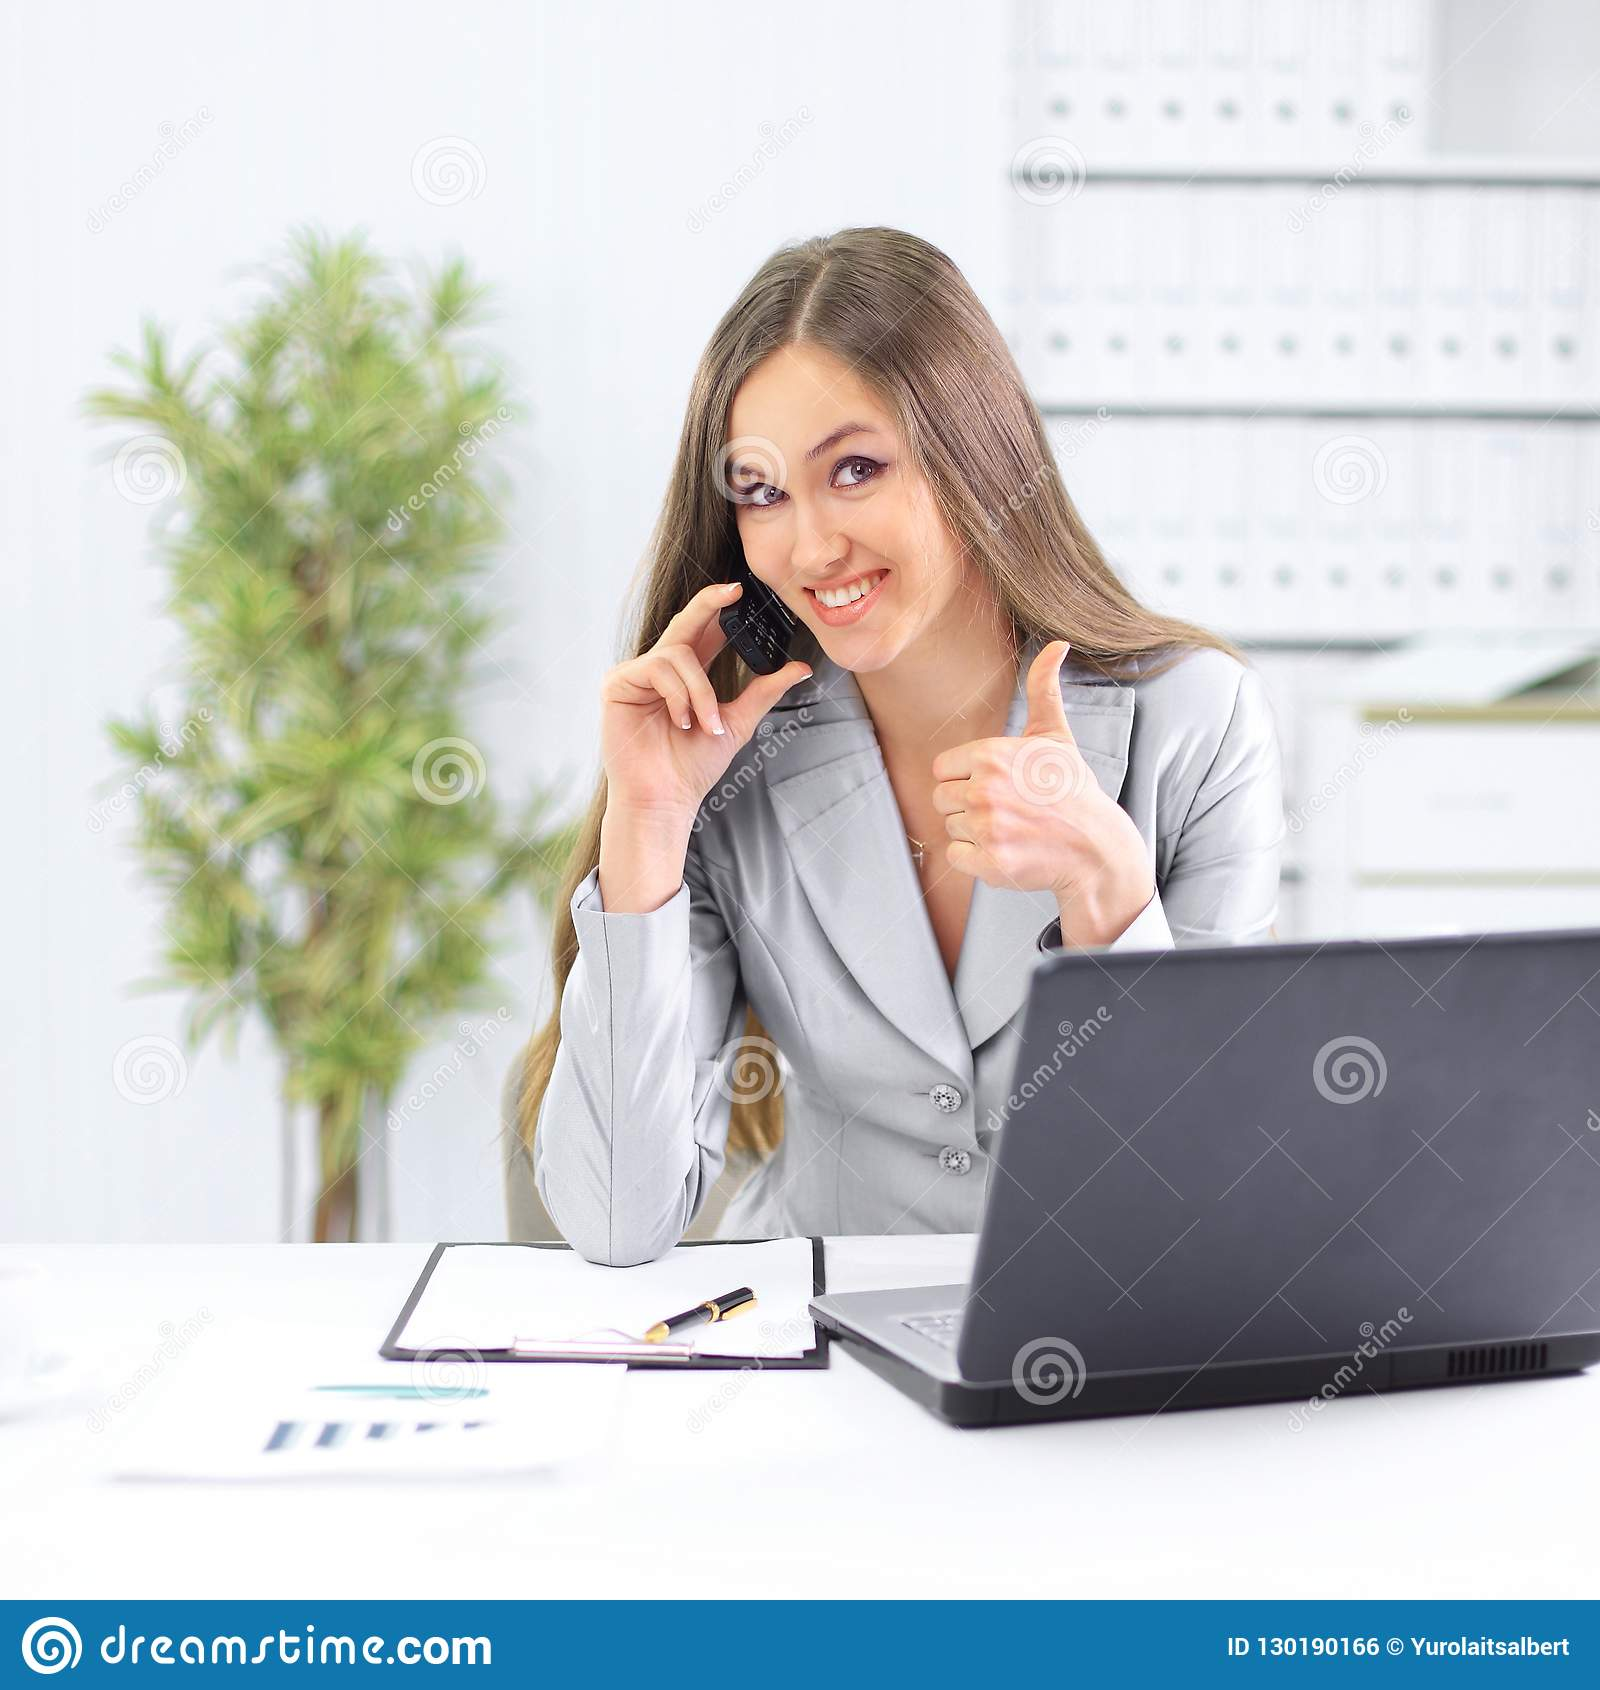talk: (589, 407, 938, 874)
